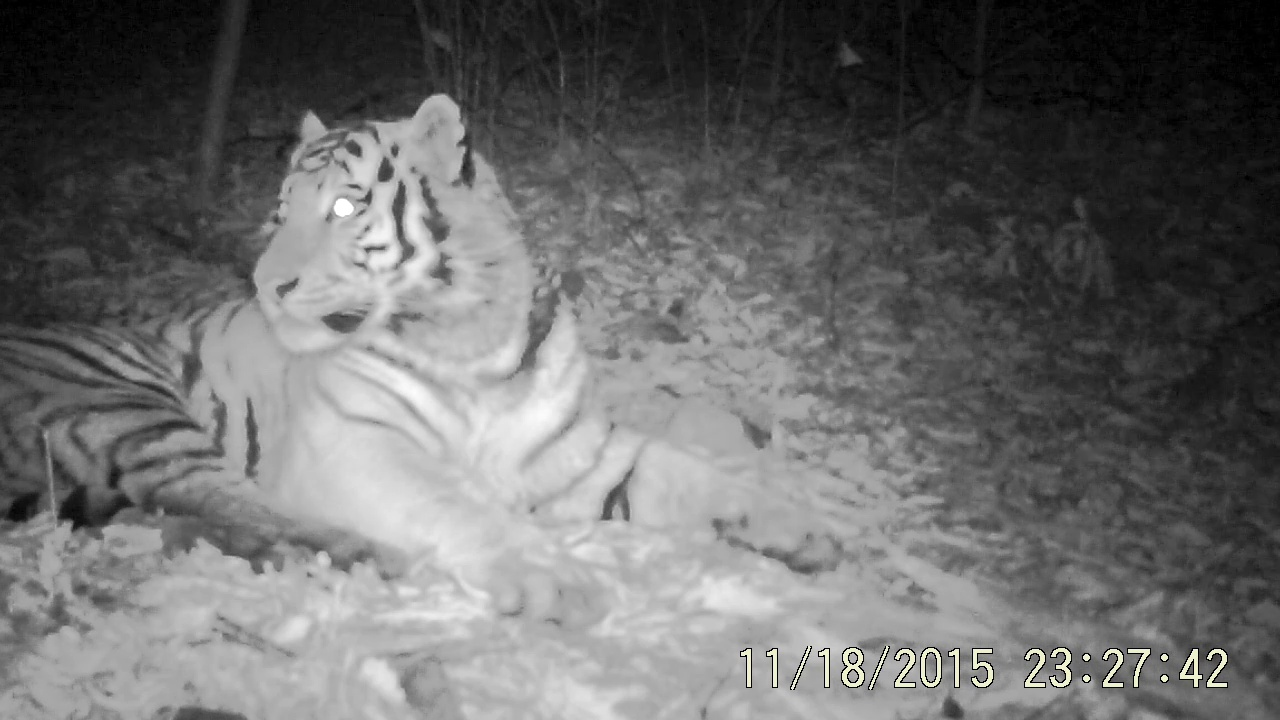Tiger: (10, 49, 911, 617)
